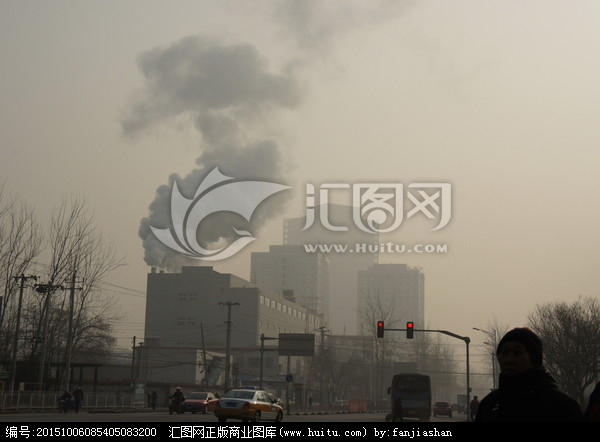dust: (75, 42, 306, 271)
